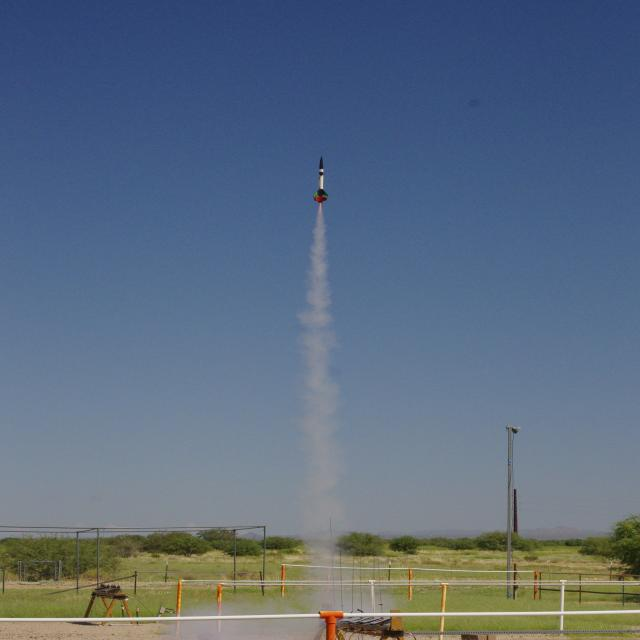Rocket: (312, 156, 330, 204)
